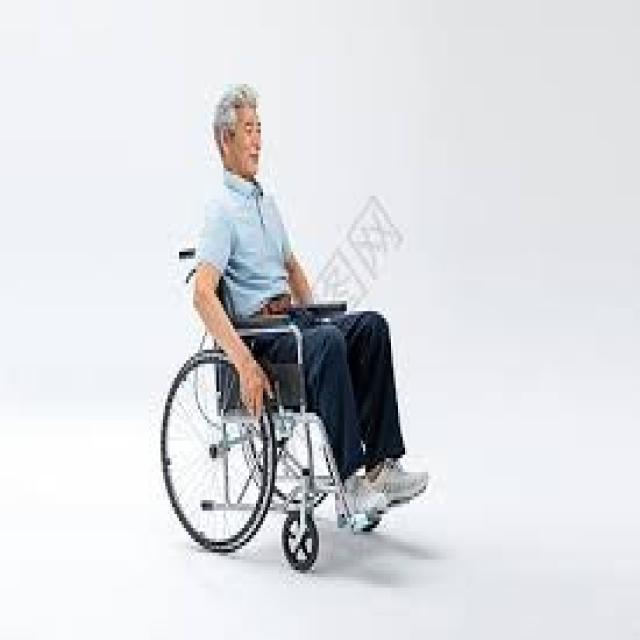wheelchairs: (153, 234, 426, 566)
